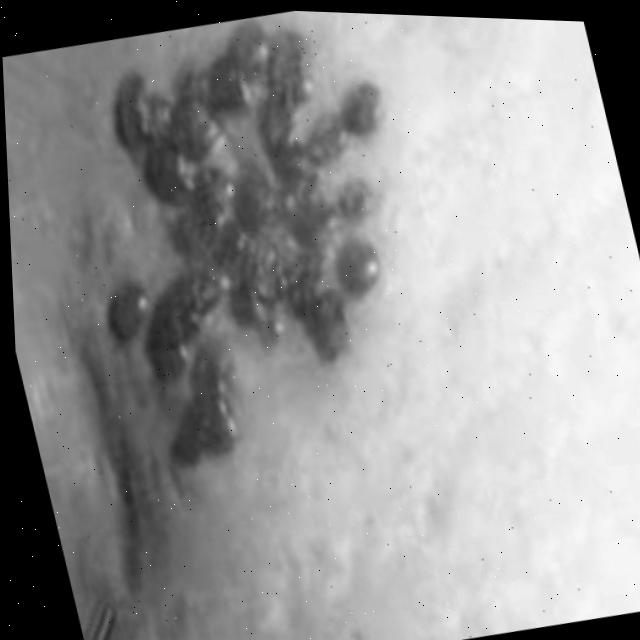Shingles: (39, 1, 463, 482)
